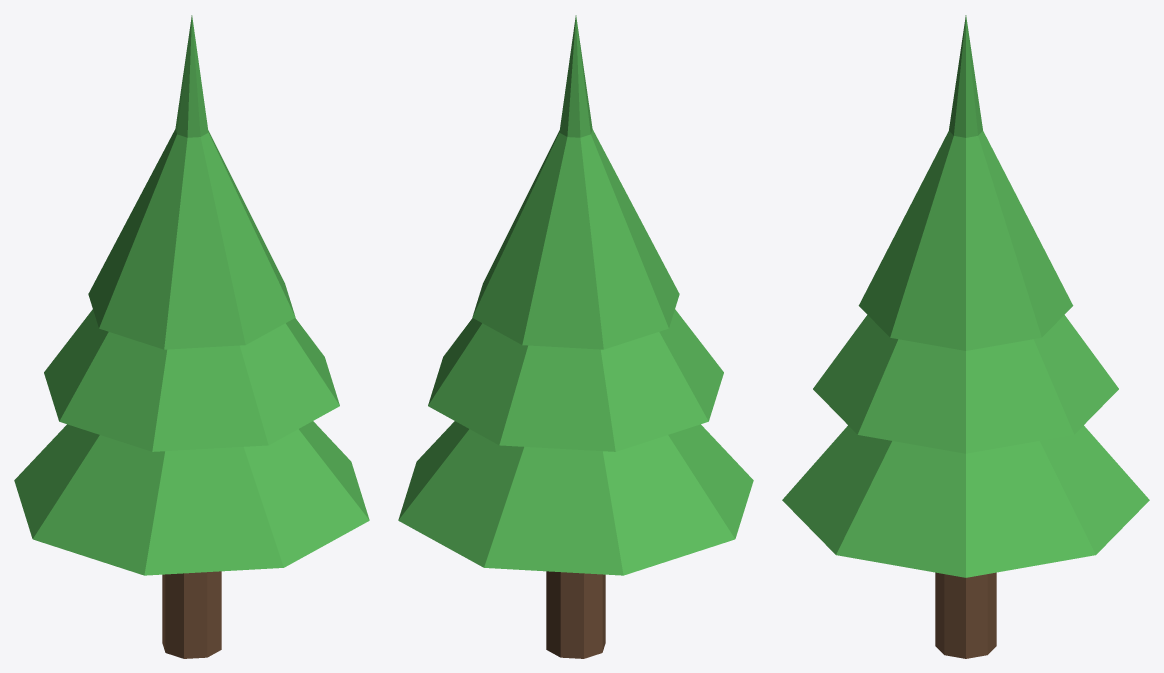
Rendered from tree1.glb.
3 renders of one model, left to right at view 1: azimuth 30°, elevation 25°; view 2: azimuth 150°, elevation 25°; view 3: azimuth 270°, elevation 25°, orthographic.
Visible parts, largest first — view 1: Cone, Cone.002, Cone.001, Cylinder, Cone.003; view 2: Cone, Cone.002, Cone.001, Cylinder, Cone.003; view 3: Cone, Cone.002, Cone.001, Cylinder, Cone.003.
Part boxes in pixels (bbox=[...]): Cone: bbox=[14, 421, 369, 575]; Cone.002: bbox=[88, 129, 295, 349]; Cone.001: bbox=[44, 309, 339, 451]; Cylinder: bbox=[162, 571, 221, 658]; Cone.003: bbox=[175, 15, 208, 137]; Cone: bbox=[398, 421, 753, 575]; Cone.002: bbox=[472, 129, 679, 349]; Cone.001: bbox=[428, 309, 723, 451]; Cylinder: bbox=[546, 571, 605, 658]; Cone.003: bbox=[559, 15, 592, 137]; Cone: bbox=[782, 425, 1149, 577]; Cone.002: bbox=[858, 131, 1073, 350]; Cone.001: bbox=[813, 315, 1118, 453]; Cylinder: bbox=[935, 572, 996, 658]; Cone.003: bbox=[949, 15, 982, 137].
Size of the model in its own units: 2.4 by 4.55 by 2.4.
